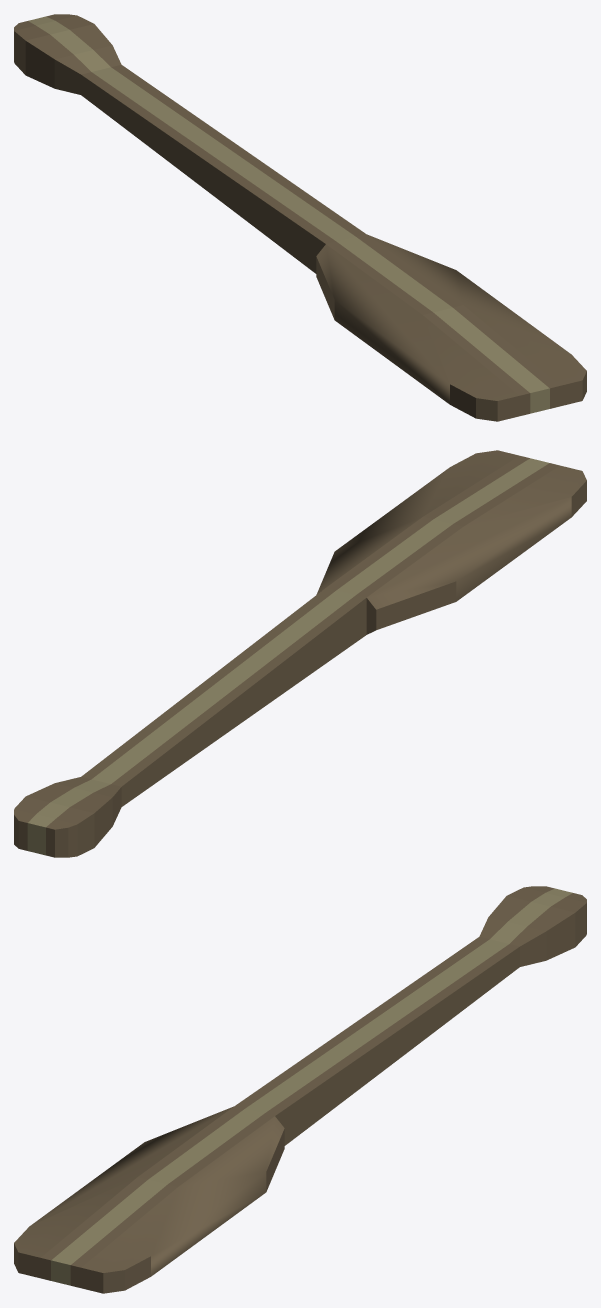
Rendered from paddle.fbx.
3 renders of one model, top to bottom at view 1: azimuth 30°, elevation 25°; view 2: azimuth 150°, elevation 25°; view 3: azimuth 330°, elevation 25°, orthographic.
Visible parts, largest first — view 1: Cube; view 2: Cube; view 3: Cube.
Part boxes in pixels (x1,y1,x2,y2): Cube: (14,14,586,421); Cube: (14,450,586,857); Cube: (14,886,586,1293).
Size of the model in its own units: 200 by 58.85 by 1432.
